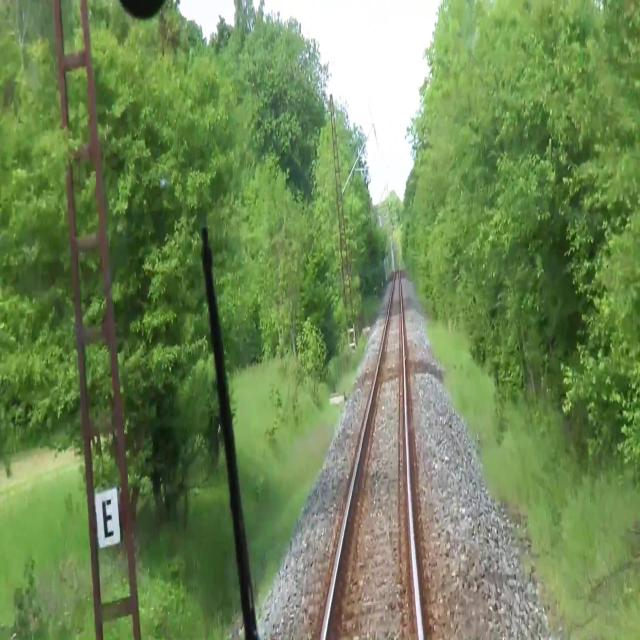rail-track: (327, 270, 420, 639)
